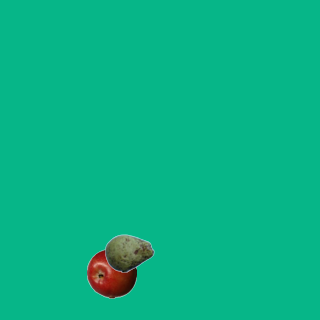Apple Braeburn: (86, 248, 136, 298)
Pear Stone: (104, 228, 154, 278)
